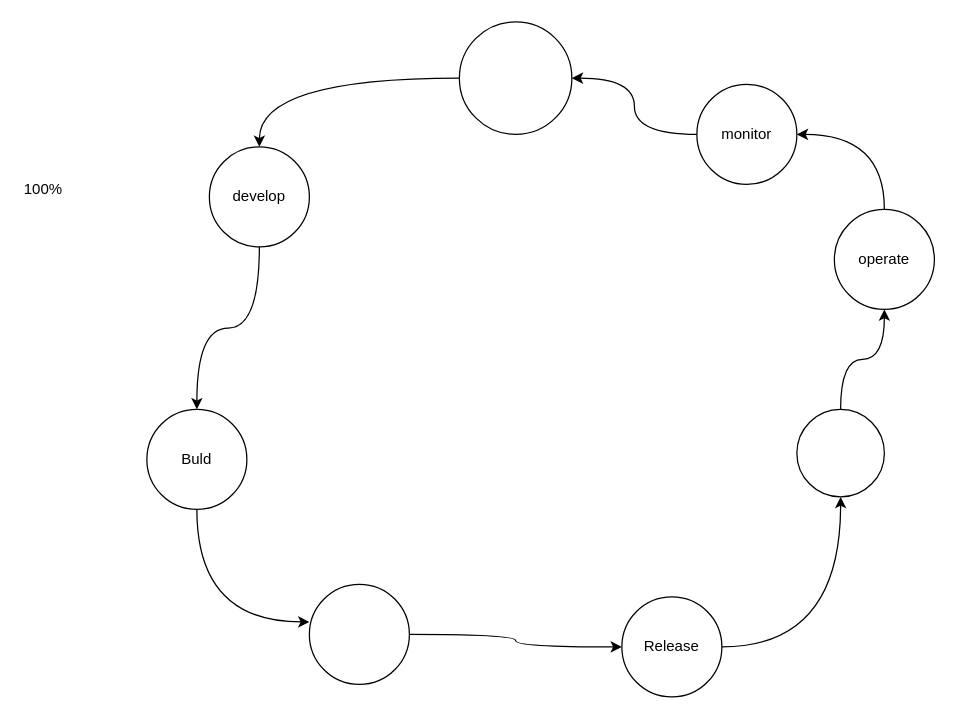
This 956x719 diagram has some shape labels left out. The centre of each missing label's shape, as x and y in pixels:
delay: point (840, 452)
plan: point (515, 77)
Test: point (358, 633)
